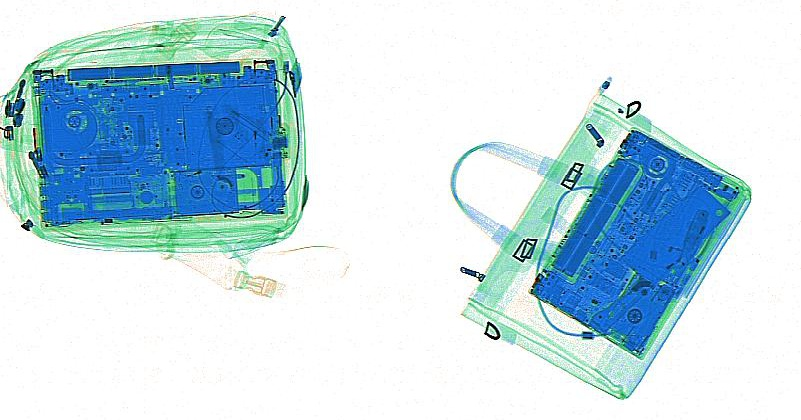knife: (584, 182, 729, 334), (198, 68, 225, 179), (674, 208, 709, 272)
